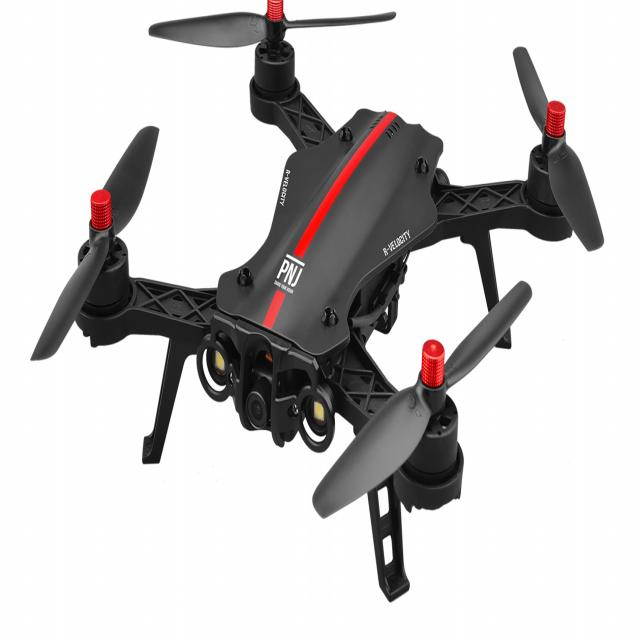drone: (20, 0, 606, 606)
